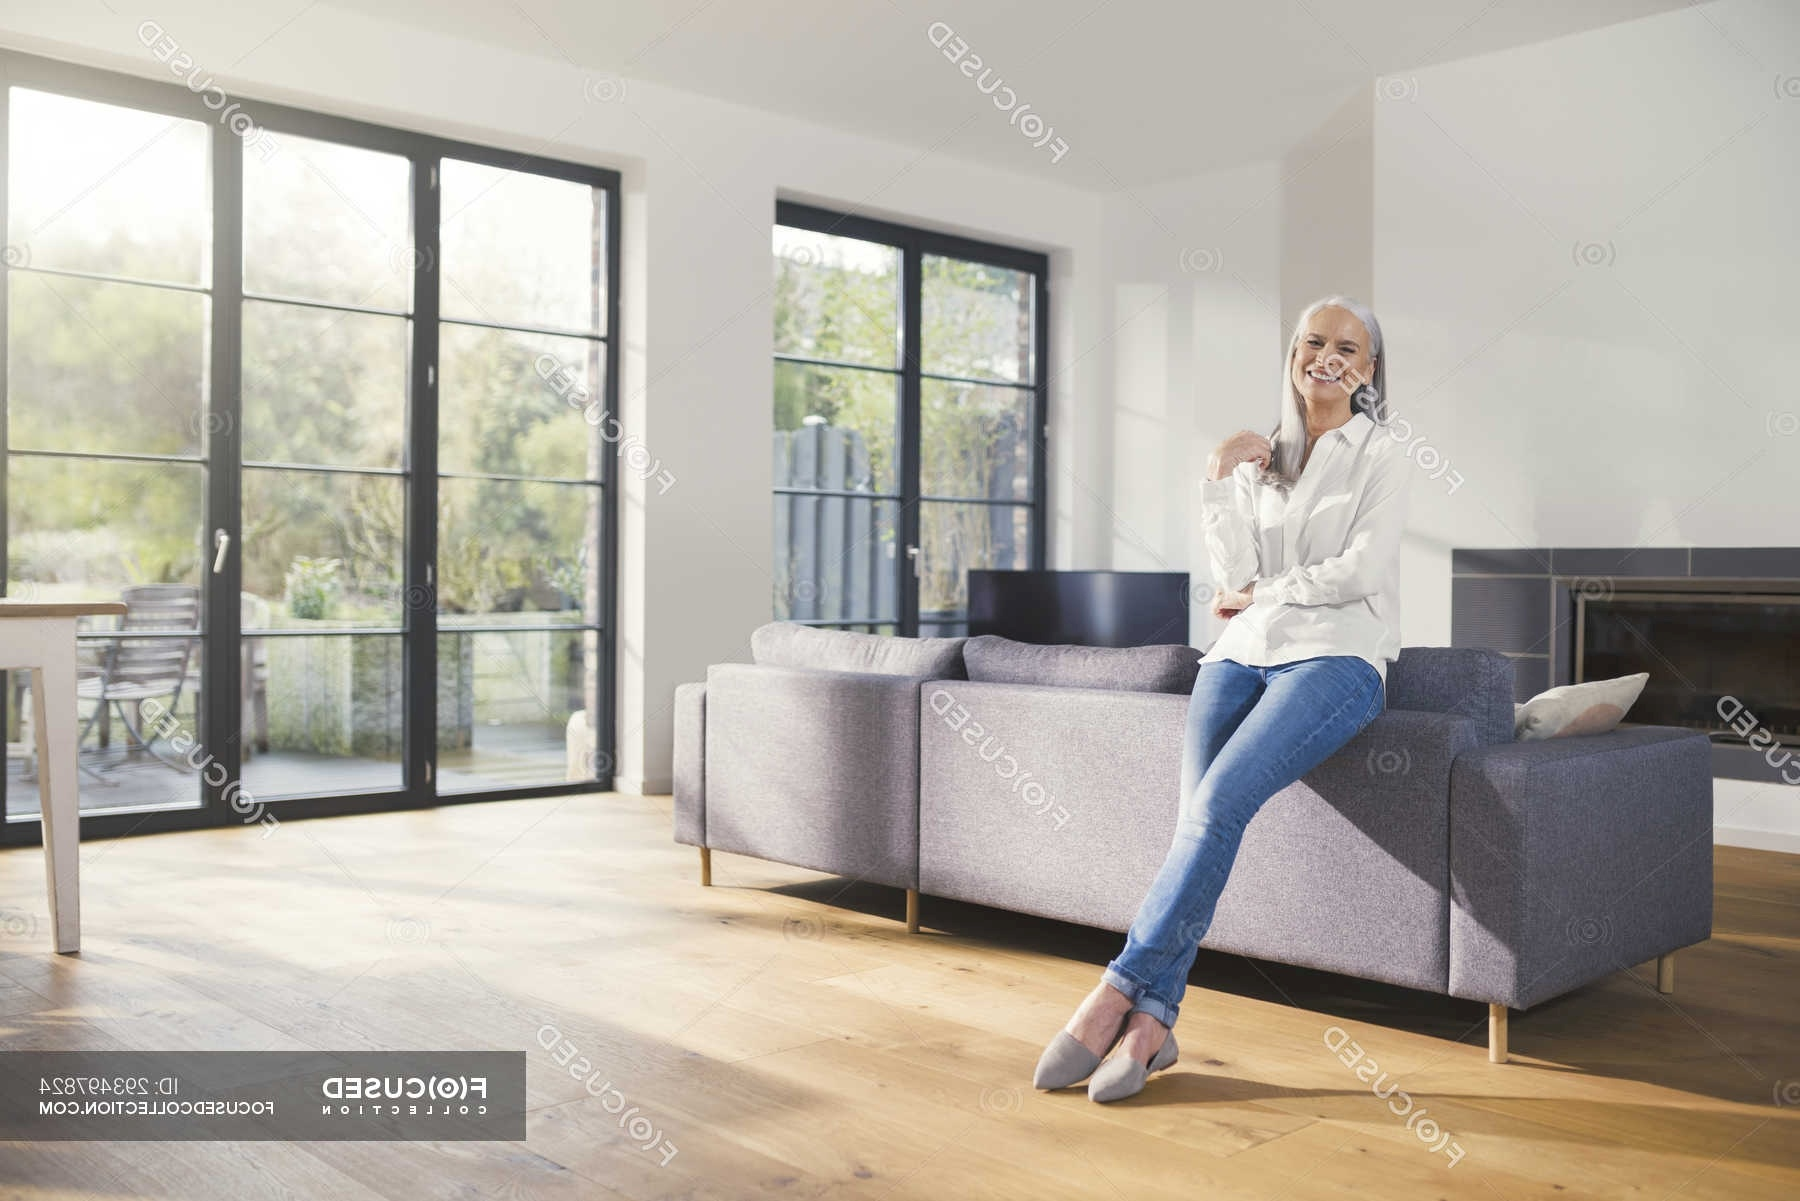not_fallen: (978, 303, 1445, 1137)
